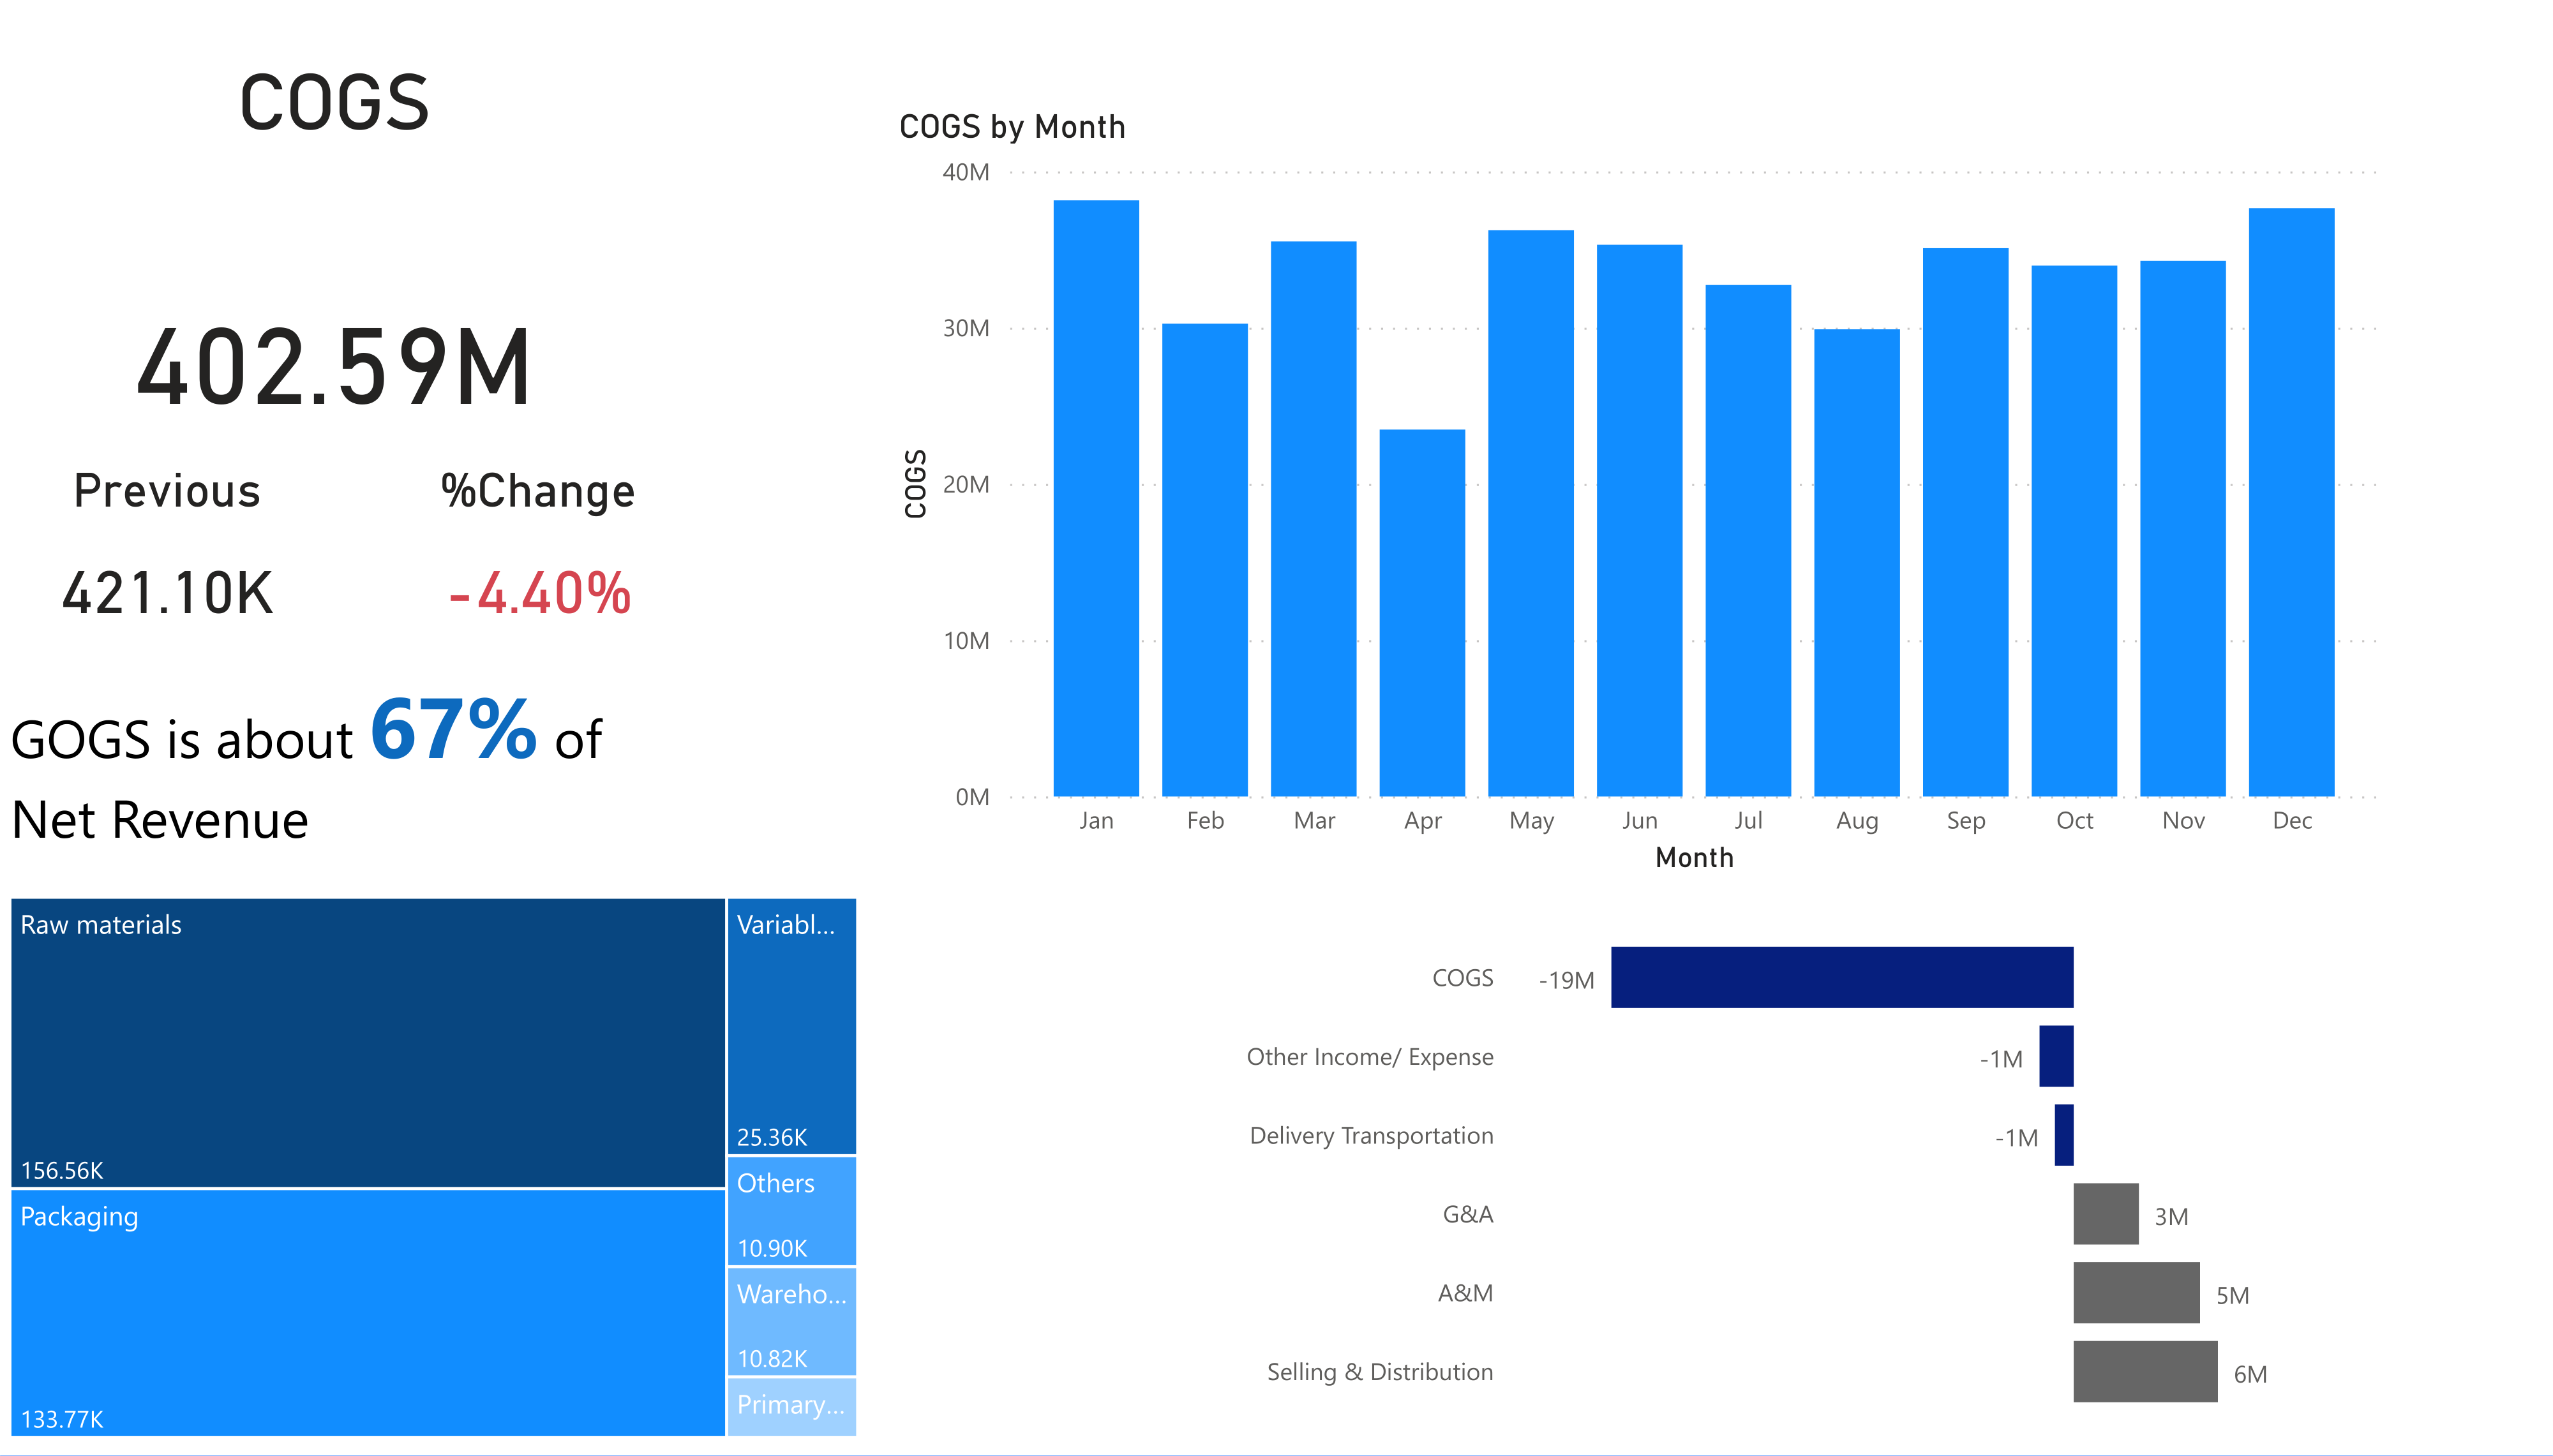

Layout of this report page (visuals, bound fields, positions):
{"tool":"powerbi","page":{"name":"GOGS","canvas":[1280,720],"ordinal":2},"visuals":[{"type":"hundredPercentStackedBarChart","box":[55.5,96.7,467.9,186.3],"z":0},{"type":"barChart","fields":{"Y":["Sum(P&L - SP Co (2).COGS)","Sum(P&L - SP Co (2).Delivery Transportation)","P&L - SP Co (2).Operating Expense","Sum(P&L - SP Co (2).NOPBT)"],"Category":["P&L - SP Co (2).SP Co."]},"box":[0,0,1280,694],"z":1000}]}

Visuals, with their boxes in screenshot pixels (x1, y1, x2, y2), scaled from the page's 1280x720 canvas onto the 2553x1456 screenshot:
hundredPercentStackedBarChart: (x1=110, y1=195, x2=1044, y2=572)
barChart - Sum(P&L - SP Co (2).COGS) x Sum(P&L - SP Co (2).Delivery Transportation): (x1=0, y1=0, x2=2552, y2=1404)
